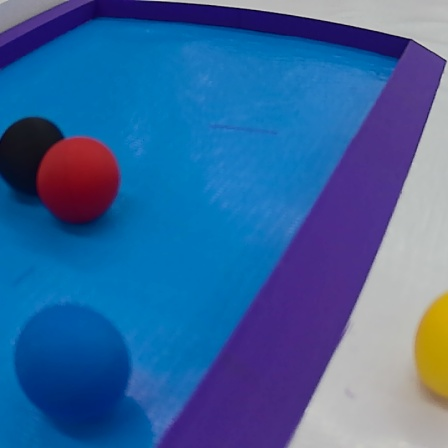black: (0, 113, 65, 197)
blue: (13, 301, 135, 429)
blue_aim: (3, 3, 443, 448)
red: (35, 132, 124, 227)
